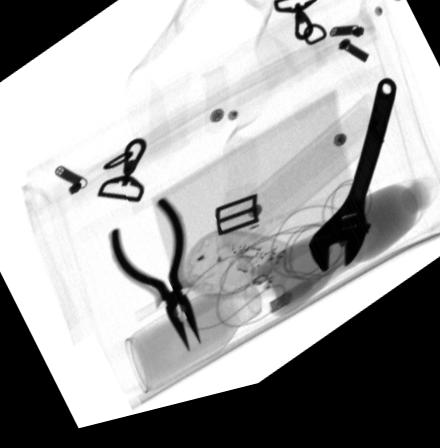Pliers: (105, 202, 204, 364)
Wrench: (305, 96, 398, 291)
